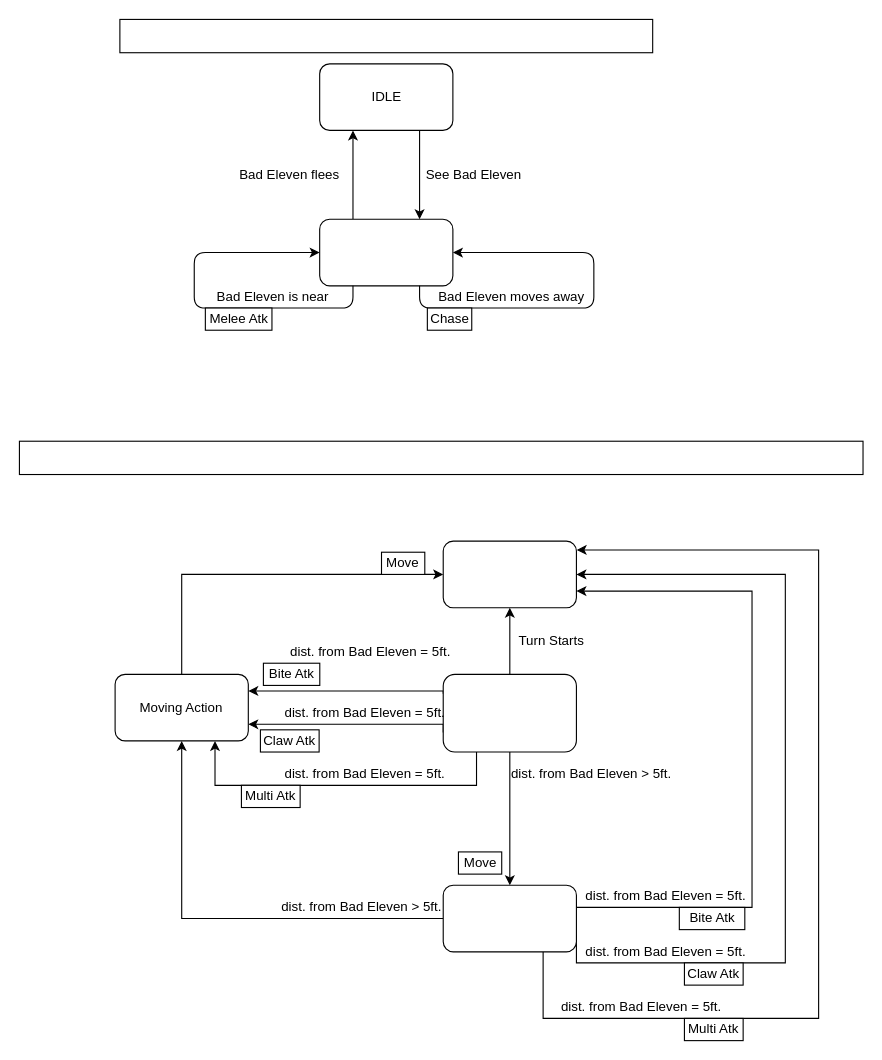
This 882x1060 diagram has some shape labels left out. The shapes that lost their labels are listed below. From the top down, each one's box as (x1, y1, x2, y2) in pixels, then its label:
(119, 18, 653, 53): Free Roaming
(319, 218, 453, 286): AGGRESSIVE
(18, 440, 863, 475): Battle Mode
(442, 540, 576, 608): Wait Turn
(442, 673, 576, 752): Action One
(442, 884, 576, 952): Action Two
